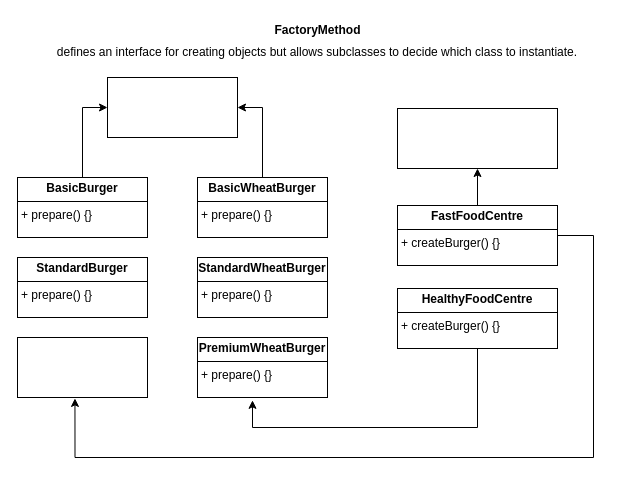
This 619x483 diagram has some shape labels left out. Each missing label, with the centre of its shape:
"IBurger + prepare()" belongs at point 172,107.
"IFactory + createBurger()" belongs at point 477,138.
"PremiumBurger + prepare() {}" belongs at point 82,367.
